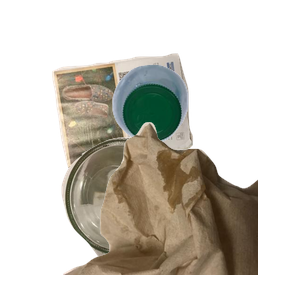glass: (59, 135, 254, 300)
paper: (49, 51, 235, 212)
plastic: (110, 62, 300, 198)
trash: (60, 120, 300, 300)
